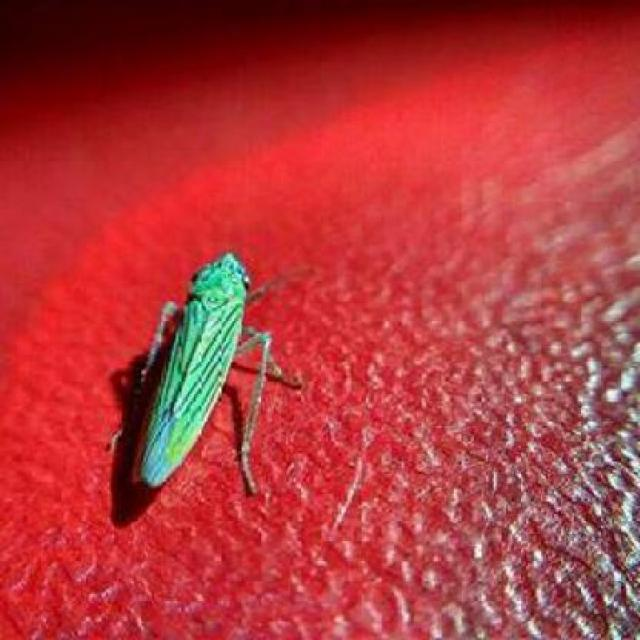green-leafhopper: (123, 244, 297, 490)
